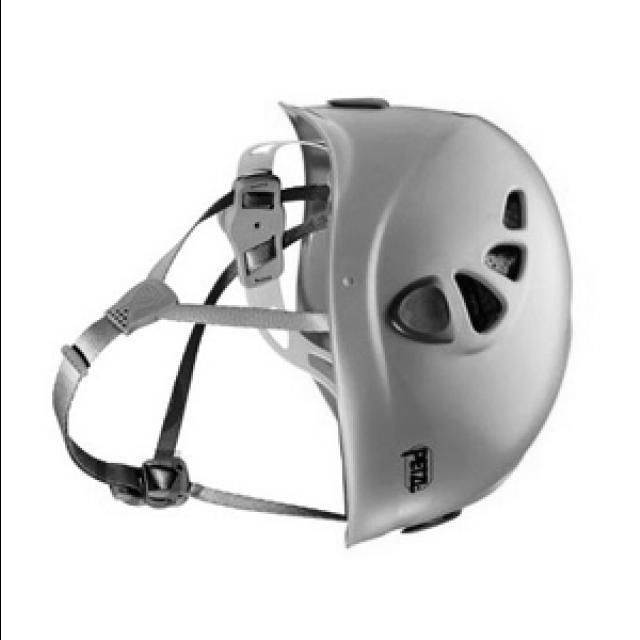safety_helmet: (49, 96, 572, 550)
